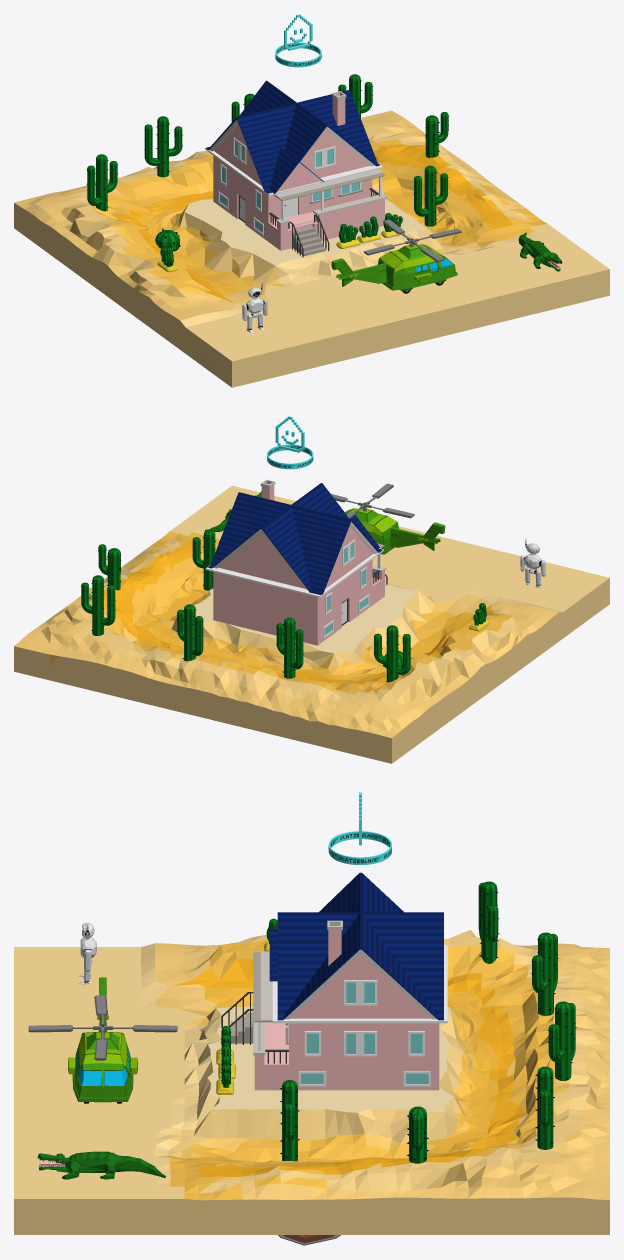
3 views of the same model, one above another, from view 1: azimuth 30°, elevation 25°; view 2: azimuth 150°, elevation 25°; view 3: azimuth 270°, elevation 25° (orthographic). The views are drawn at different scales.
Visible parts, largest first — view 1: Cube.001, Cube.313, VEHICLES_HELICOPTER, Cylinder.044, Cylinder.037, Cylinder.045, TYPE_PREMIUM, ANIMAL_COCODRILO, Cylinder.038, OBJRANDOM_PLATZEEBOT, Cylinder.042; view 2: Cube.001, Cube.313, VEHICLES_HELICOPTER, Cylinder.042, Cylinder.045, Cylinder.044, Cylinder.043, TYPE_PREMIUM, Cylinder.037, Cylinder.038, OBJRANDOM_PLATZEEBOT; view 3: Cube.001, Cube.313, VEHICLES_HELICOPTER, ANIMAL_COCODRILO, Cylinder.043, Cylinder.044, Cylinder.045, Cylinder.042, Cylinder.037, TYPE_PREMIUM, Cylinder.038, OBJRANDOM_PLATZEEBOT.
Part boxes in pixels (x1,y1,x2,y2): Cube.001: [14, 110, 609, 387]; Cube.313: [205, 80, 387, 257]; VEHICLES_HELICOPTER: [331, 219, 461, 293]; Cylinder.044: [144, 116, 182, 177]; Cylinder.037: [413, 165, 448, 226]; Cylinder.045: [86, 154, 117, 211]; TYPE_PREMIUM: [275, 14, 321, 67]; ANIMAL_COCODRILO: [518, 232, 562, 271]; Cylinder.038: [425, 112, 448, 157]; OBJRANDOM_PLATZEEBOT: [242, 283, 267, 333]; Cylinder.042: [338, 74, 373, 118]; Cube.001: [14, 485, 609, 763]; Cube.313: [205, 479, 387, 645]; VEHICLES_HELICOPTER: [331, 483, 445, 554]; Cylinder.042: [81, 575, 115, 635]; Cylinder.045: [373, 625, 411, 682]; Cylinder.044: [276, 617, 303, 678]; Cylinder.043: [177, 604, 203, 661]; TYPE_PREMIUM: [267, 416, 313, 469]; Cylinder.037: [192, 530, 219, 590]; Cylinder.038: [98, 544, 121, 590]; OBJRANDOM_PLATZEEBOT: [520, 539, 545, 587]; Cube.001: [14, 930, 609, 1234]; Cube.313: [221, 872, 447, 1090]; VEHICLES_HELICOPTER: [28, 977, 177, 1103]; ANIMAL_COCODRILO: [37, 1151, 165, 1179]; Cylinder.043: [547, 1001, 576, 1080]; Cylinder.044: [531, 932, 558, 1015]; Cylinder.045: [478, 881, 499, 963]; Cylinder.042: [535, 1066, 554, 1149]; Cylinder.037: [280, 1080, 299, 1161]; TYPE_PREMIUM: [328, 792, 391, 864]; Cylinder.038: [407, 1106, 428, 1163]; OBJRANDOM_PLATZEEBOT: [78, 922, 96, 984].
Size of the model in its own units: 4002 by 3154 by 4001.
40 materials, 3 textured.
